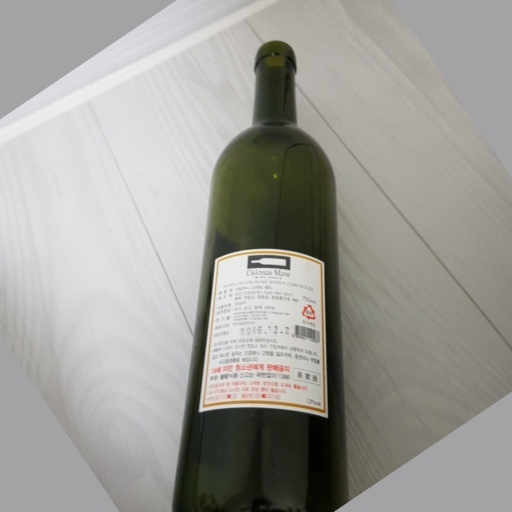Glass_2: (165, 38, 349, 512)
